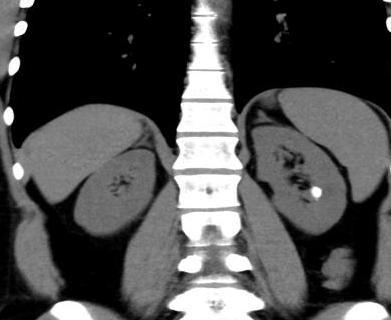Tas_Var: (307, 186, 327, 200)
